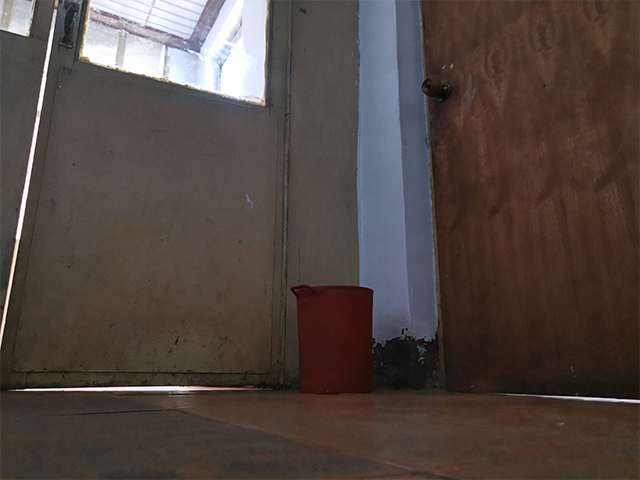trashcan: (290, 282, 377, 394)
